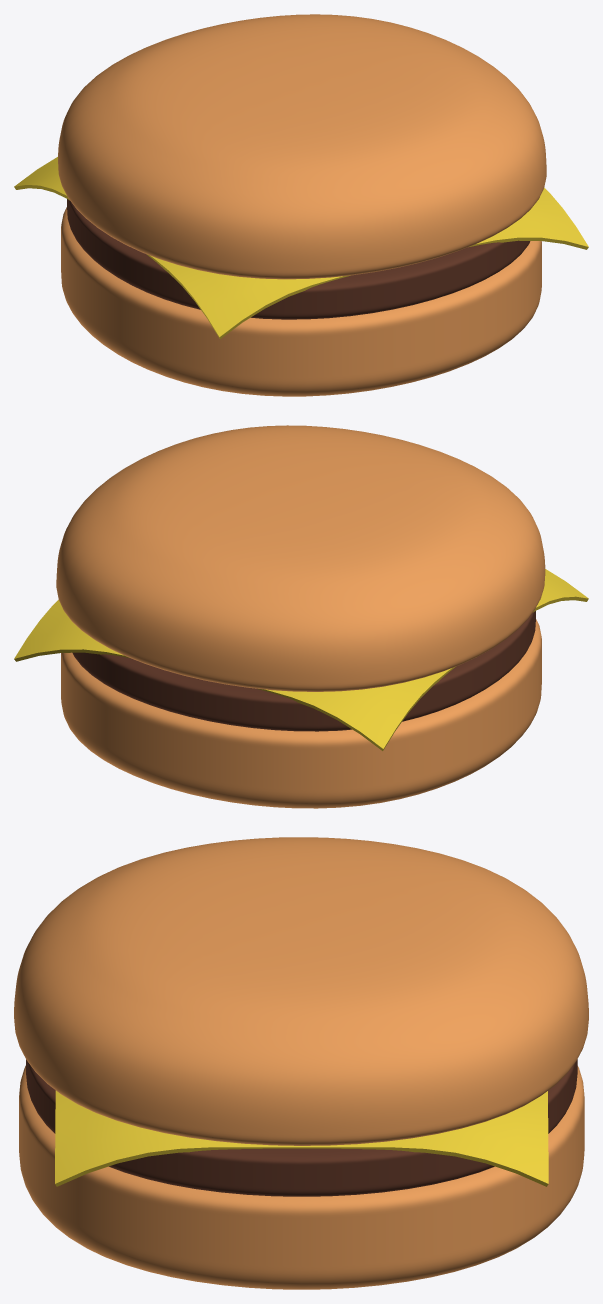
The model's file is burger.glb.
3 renders of one model, top to bottom at view 1: azimuth 30°, elevation 25°; view 2: azimuth 150°, elevation 25°; view 3: azimuth 270°, elevation 25°, orthographic. The views are drawn at different scales.
Parts seen in each view (by area): view 1: Cube.001, Cube, Cube.002, Plane; view 2: Cube.001, Cube, Cube.002, Plane; view 3: Cube.001, Cube, Cube.002, Plane.
Part boxes in pixels (left/top/right/bottom): Cube.001: left=58, top=14, right=546, bottom=279; Cube: left=61, top=207, right=541, bottom=396; Cube.002: left=67, top=199, right=530, bottom=319; Plane: left=14, top=157, right=588, bottom=339; Cube.001: left=56, top=425, right=545, bottom=691; Cube: left=61, top=619, right=541, bottom=808; Cube.002: left=72, top=611, right=535, bottom=731; Plane: left=14, top=569, right=588, bottom=750; Cube.001: left=14, top=837, right=588, bottom=1145; Cube: left=19, top=1065, right=584, bottom=1289; Cube.002: left=26, top=1059, right=577, bottom=1196; Plane: left=55, top=1090, right=548, bottom=1186.
Size of the model in its own units: 9.34 by 5.2 by 9.34.
